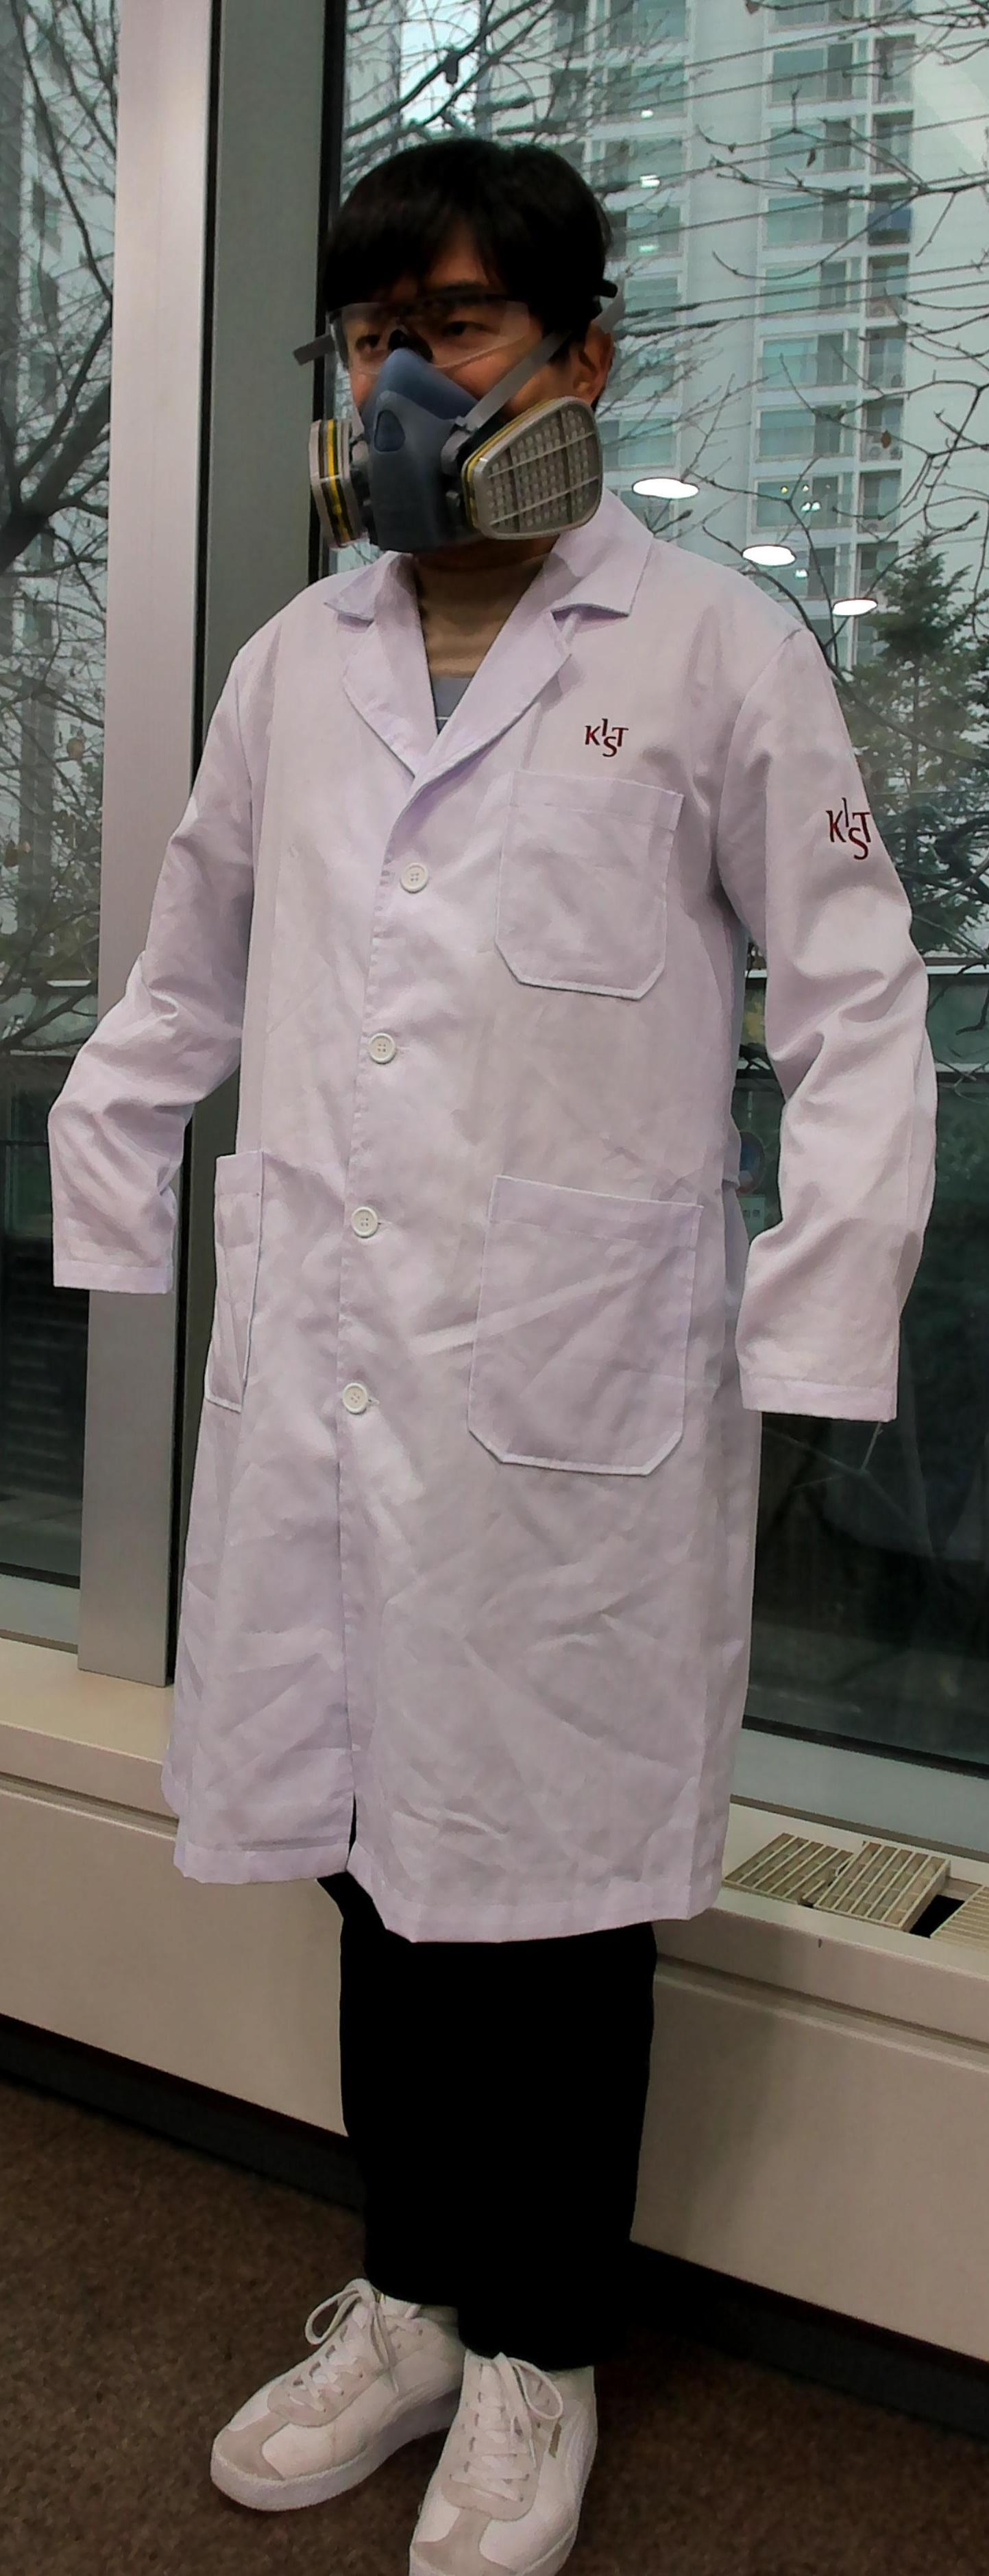lab_coat: (62, 611, 940, 1965)
